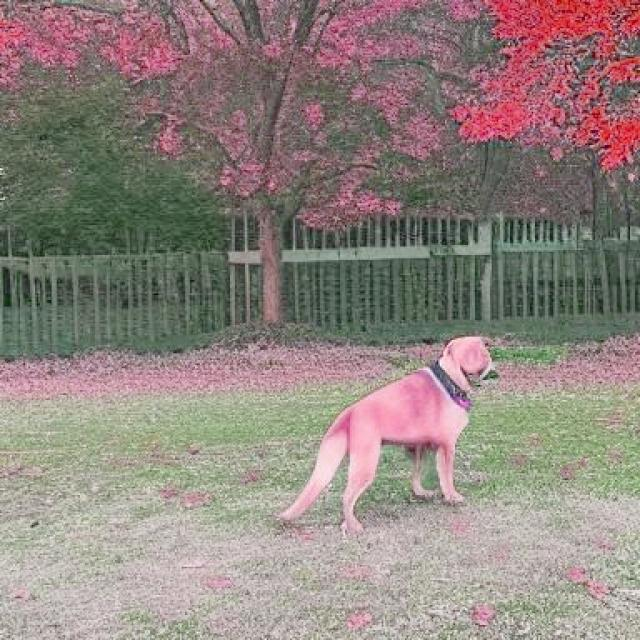Dog: (278, 336, 499, 534)
